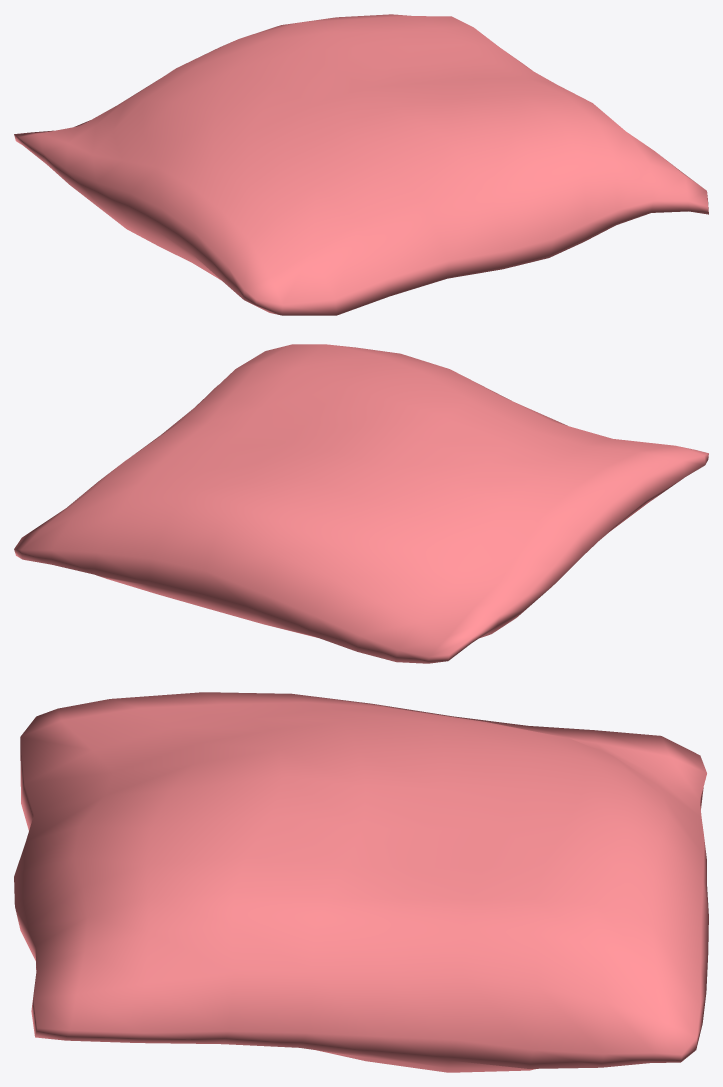
The model's file is cuscino_salmone.fbx.
The picture shows the model from 3 angles, top to bottom: view 1: azimuth 30°, elevation 25°; view 2: azimuth 150°, elevation 25°; view 3: azimuth 270°, elevation 25°; orthographic projection. The views are drawn at different scales.
Visible parts, largest first — view 1: Cube; view 2: Cube; view 3: Cube.
Part boxes in pixels (<box>): Cube: <box>14,14,708,315</box>; Cube: <box>14,344,708,663</box>; Cube: <box>14,692,708,1072</box>.
Size of the model in its own units: 26.04 by 8.52 by 25.32.
